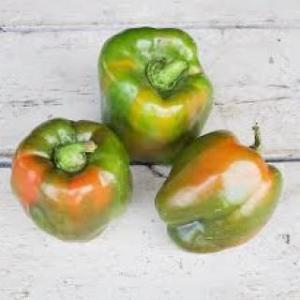bell_pepper: (150, 117, 288, 259), (98, 21, 220, 173), (4, 112, 140, 248)
